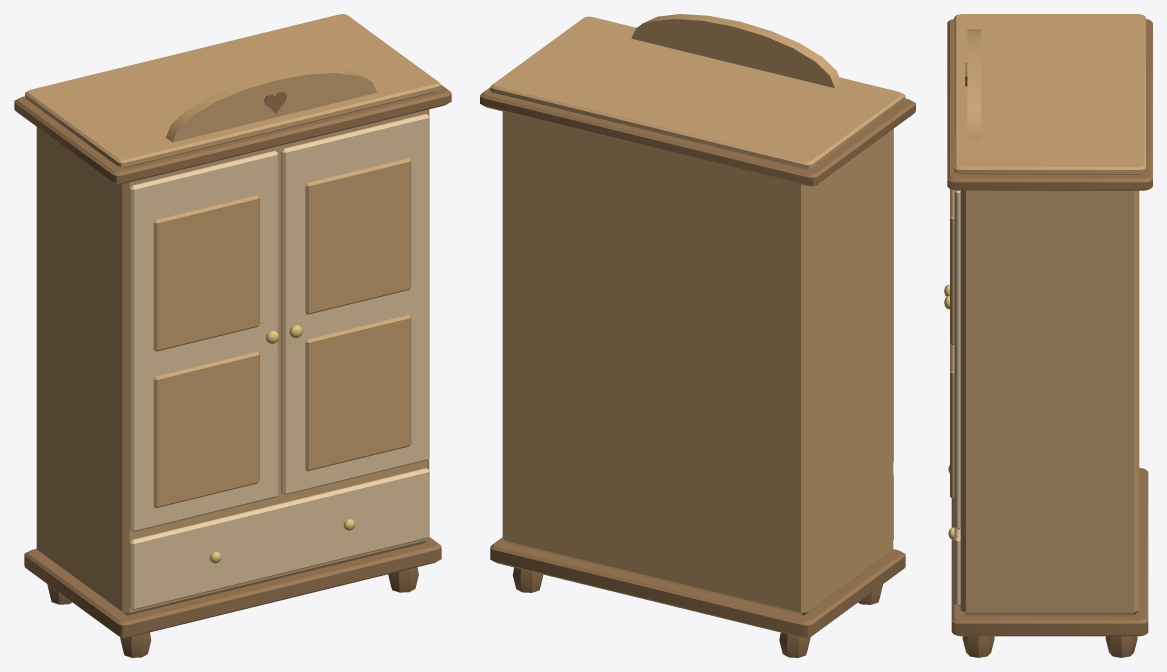
Rendered from furn_wardrobe.glb.
The picture shows the model from 3 angles, left to right: view 1: azimuth 30°, elevation 25°; view 2: azimuth 150°, elevation 25°; view 3: azimuth 270°, elevation 25°; orthographic projection.
Visible parts, largest first — view 1: furn_wardrobe_body; view 2: furn_wardrobe_body; view 3: furn_wardrobe_body.
Part boxes in pixels (<box>): furn_wardrobe_body: <box>14,14,451,657</box>; furn_wardrobe_body: <box>480,14,915,657</box>; furn_wardrobe_body: <box>944,14,1152,657</box>.
Bounding box in the file's own units: 0.86 × 1.32 × 0.4672.
